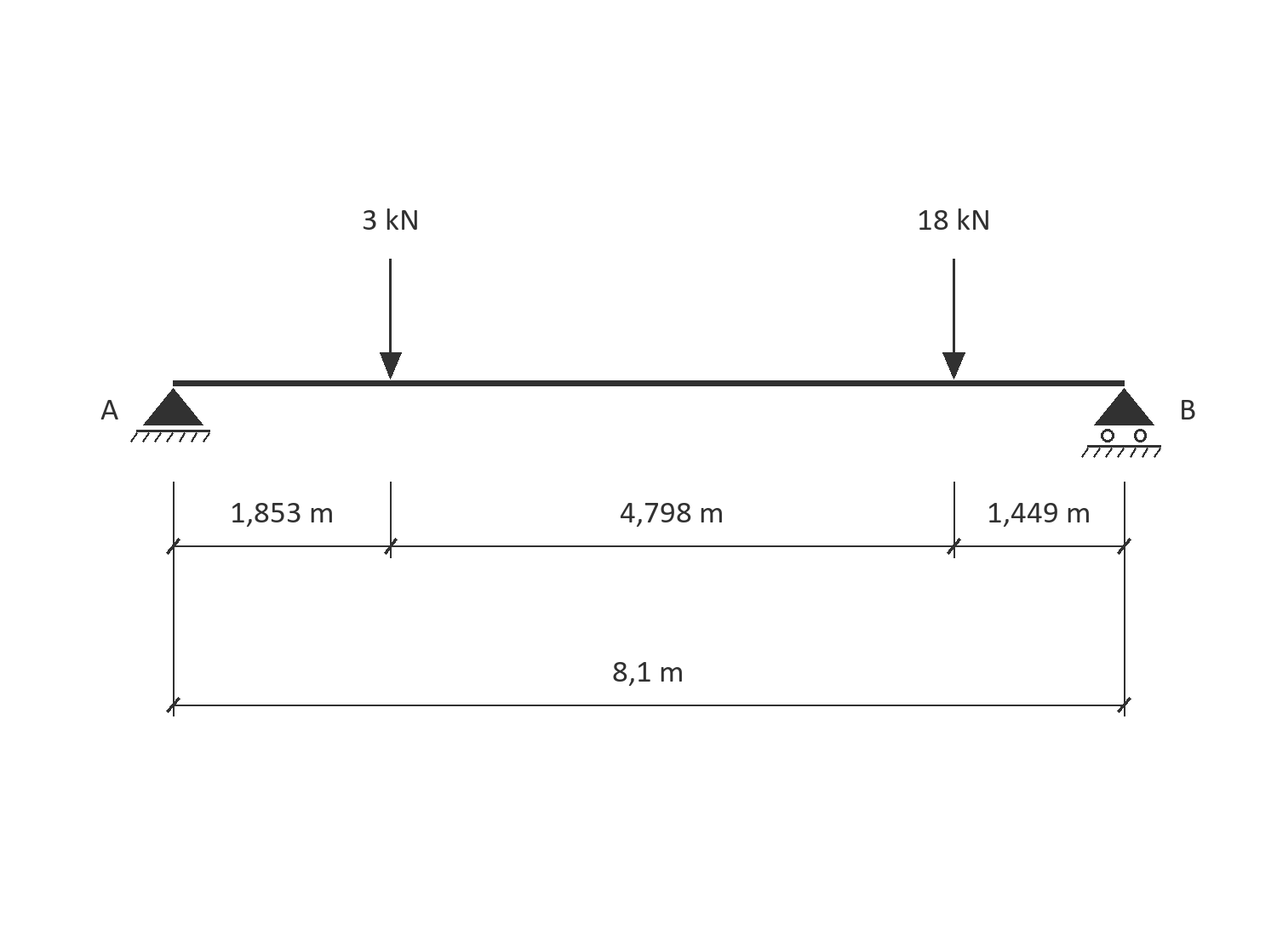pin_support: (130, 388, 210, 442)
point_load: (942, 259, 965, 380), (380, 259, 402, 380)
roller_support: (1081, 388, 1161, 458)
